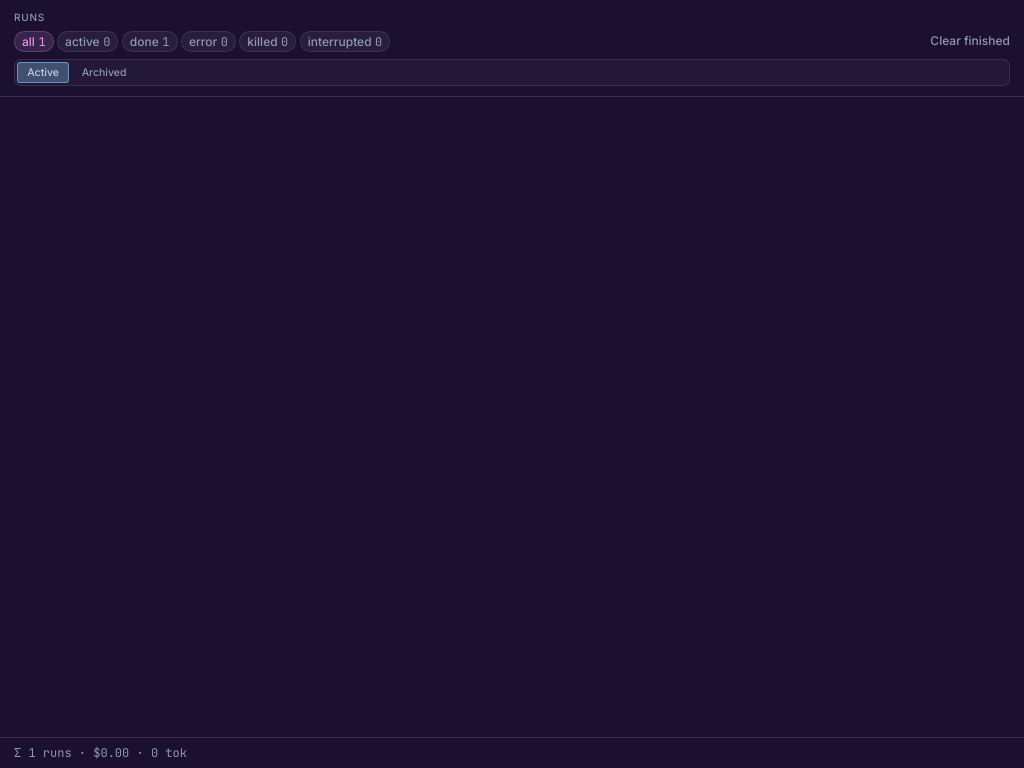
RunList archive visibility (Lane B, B5 — Active|Archived segment, Round 2) › switching to the Archived segment refetches with archived=only and shows the Archived tag
This screenshot has width=1024, height=768.
Click the button with test id "seg-only": (104, 72) x1=71 y1=62 x2=137 y2=83
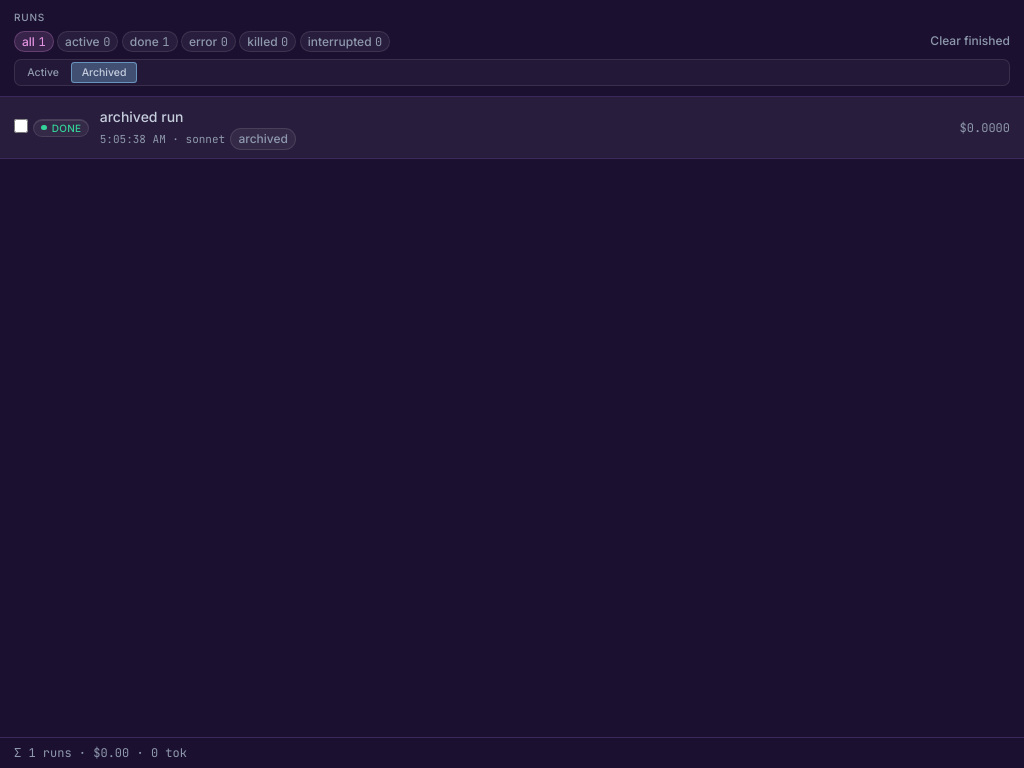
Now the text "archived run" is shown, box x1=100 y1=108 x2=184 y2=125
Now the element with test id "run-archived-tag" is shown, box x1=230 y1=128 x2=296 y2=150
